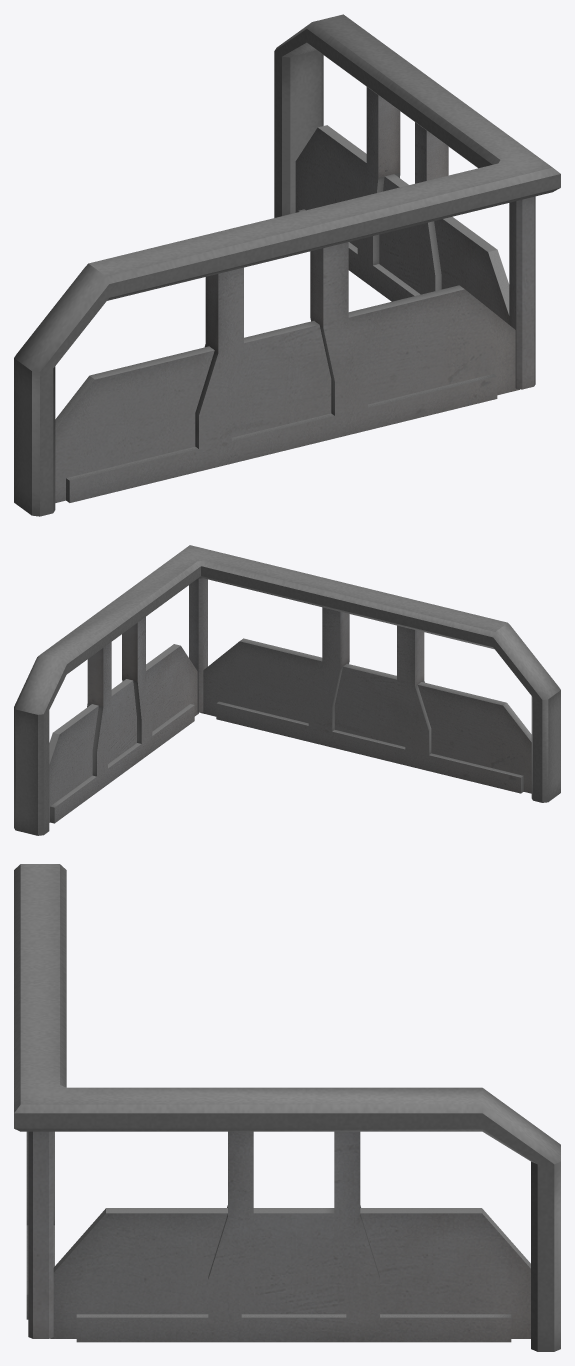
Rendered from Guardrail.fbx.
3 renders of one model, top to bottom at view 1: azimuth 30°, elevation 25°; view 2: azimuth 150°, elevation 25°; view 3: azimuth 270°, elevation 25°, orthographic. The views are drawn at different scales.
Parts seen in each view (by area): view 1: GuardRailBase2; view 2: GuardRailBase2; view 3: GuardRailBase2.
Boxes of the visible parts, x1=… form: GuardRailBase2: x1=14, y1=14, x2=560, y2=516; GuardRailBase2: x1=14, y1=545, x2=560, y2=835; GuardRailBase2: x1=14, y1=864, x2=560, y2=1351.
Size of the model in its own units: 252 by 101 by 205.
1 material, 1 textured.
